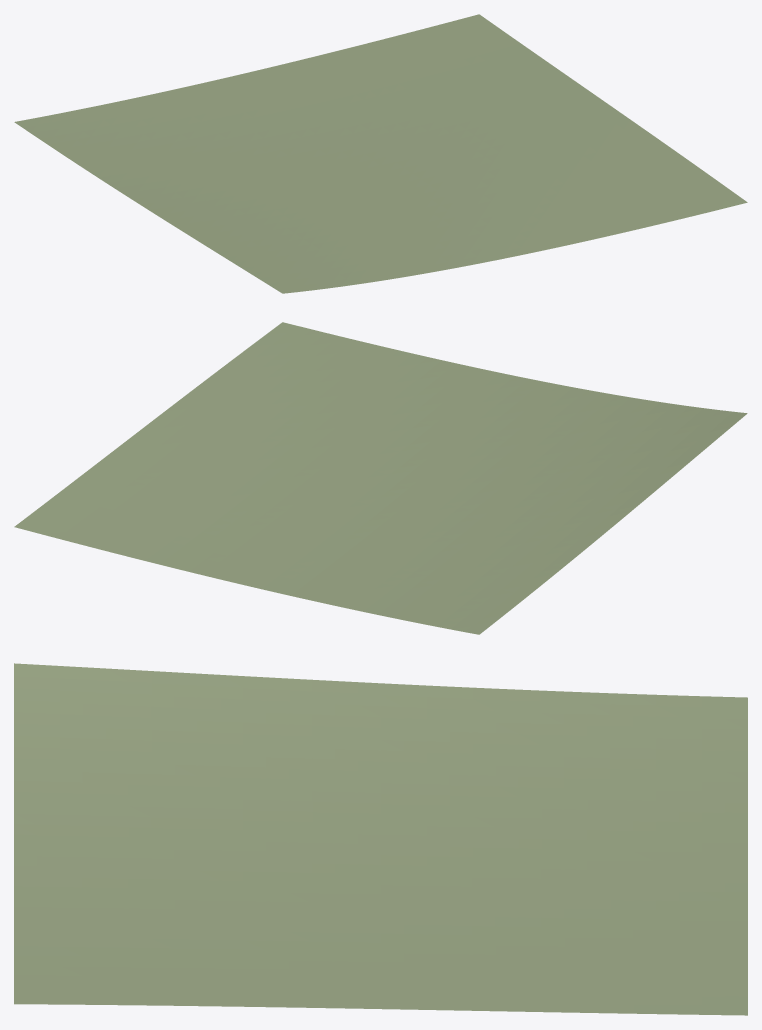
Rendered from expanse-31-23.glb.
3 views of the same model, one above another, from view 1: azimuth 30°, elevation 25°; view 2: azimuth 150°, elevation 25°; view 3: azimuth 270°, elevation 25° (orthographic). The views are drawn at different scales.
Visible parts, largest first — view 1: expanse-31-23; view 2: expanse-31-23; view 3: expanse-31-23.
Part boxes in pixels (x1,y1,x2,y2): expanse-31-23: (14, 14, 747, 293); expanse-31-23: (14, 322, 747, 634); expanse-31-23: (14, 663, 747, 1015).
Bounding box in the file's own units: 256 × 17.26 × 256.
